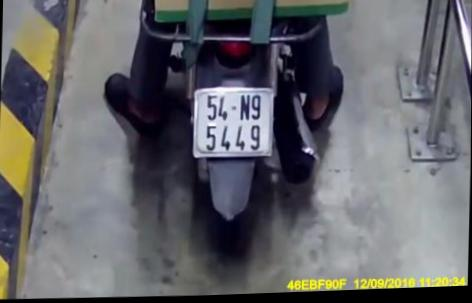LP: (194, 86, 275, 161)
